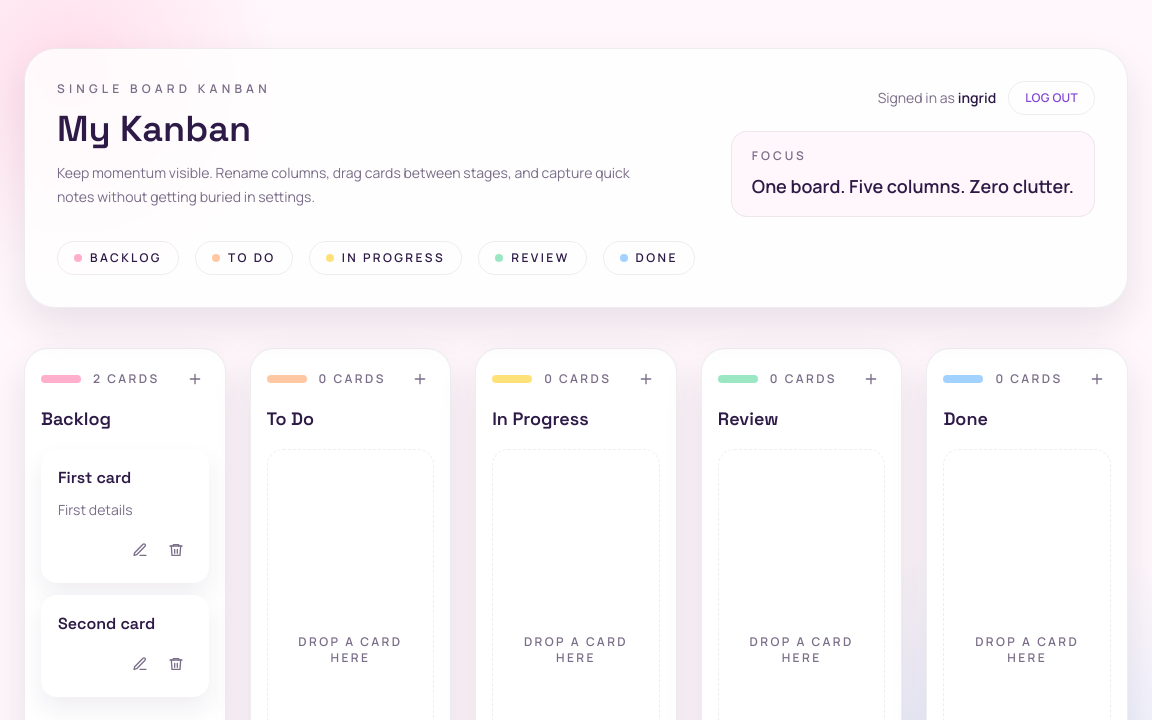
Scenario: KanbanBoard › clears the save error once a later save succeeds
Click the button named "Delete First card": coordinates (176, 550) [160, 534, 192, 566]
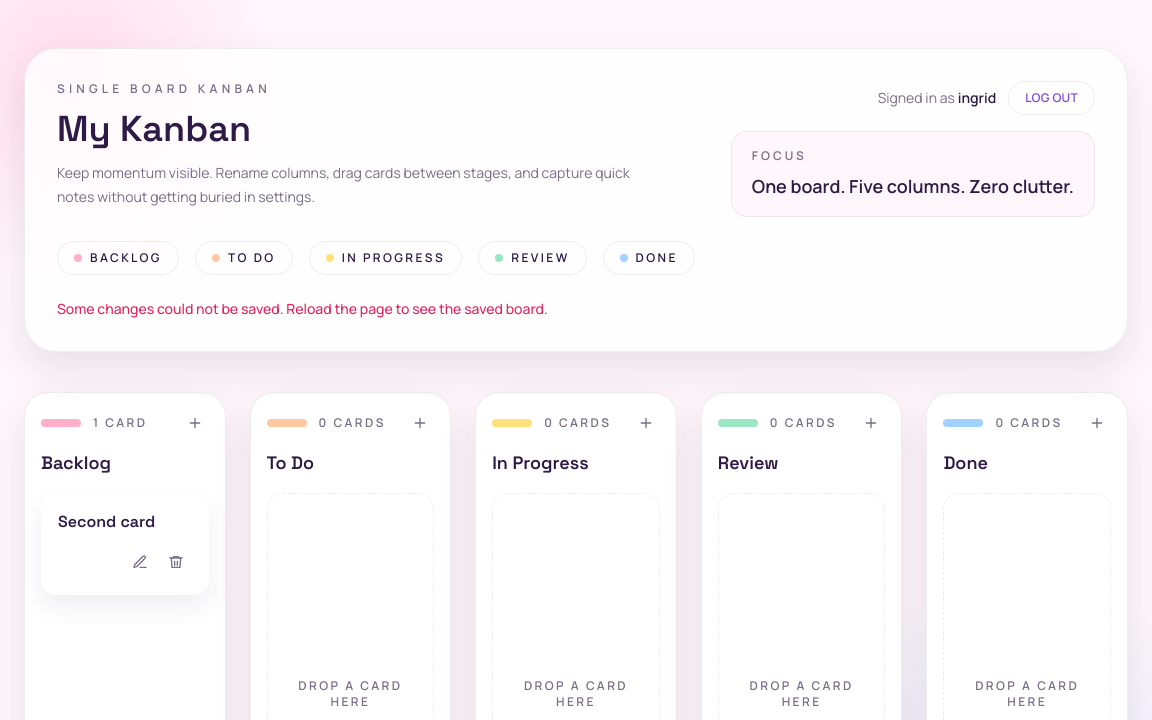
Result: the message shows "could not be saved" at [57, 299, 548, 318]
Click the button named "Delete Second card": coordinates (176, 562) [160, 546, 192, 578]
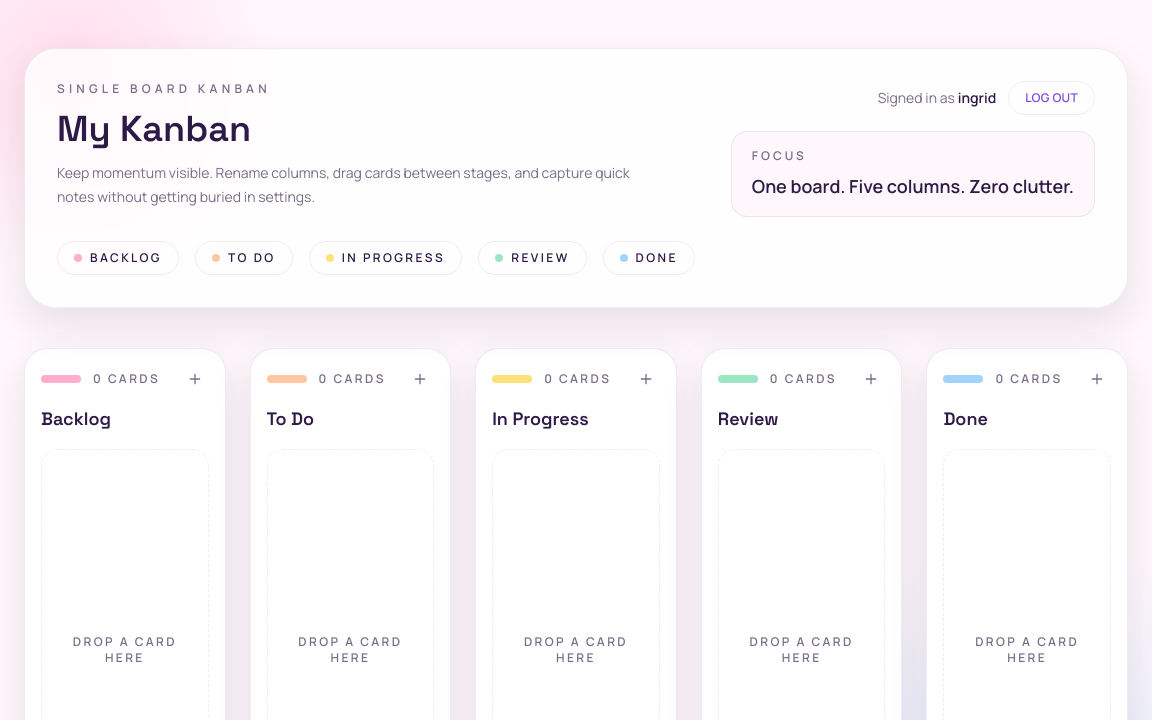
Result: the message "Some changes could not be saved. Reload the page to see the saved board." is gone
